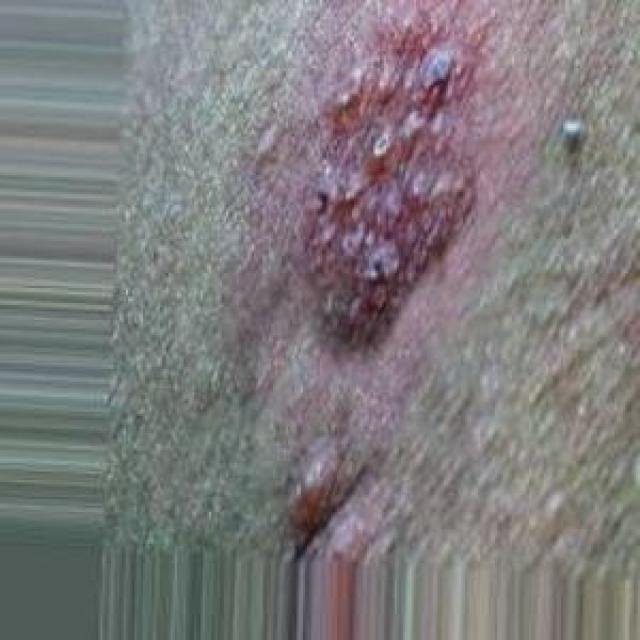Shingles: (285, 18, 480, 342)
